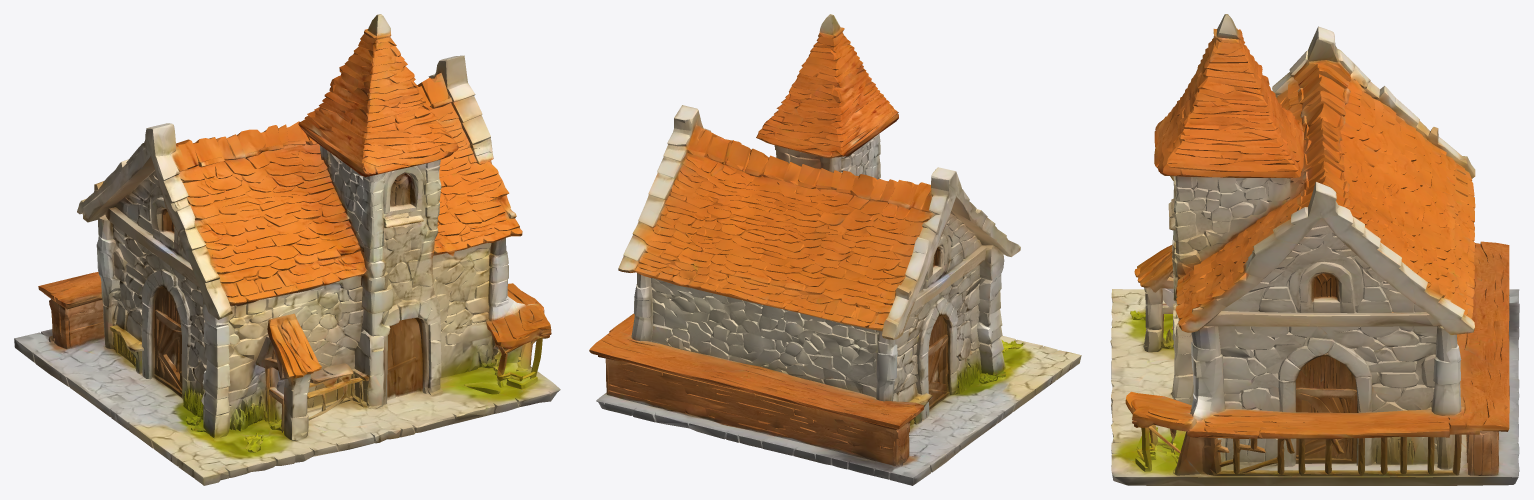
3 views of the same model, side by side, from view 1: azimuth 30°, elevation 25°; view 2: azimuth 150°, elevation 25°; view 3: azimuth 270°, elevation 25° (orthographic). The views are drawn at different scales.
Parts seen in each view (by area): view 1: model; view 2: model; view 3: model.
Boxes of the visible parts, left/top/right/bottom form: model: left=14, top=14, right=560, bottom=485; model: left=589, top=14, right=1081, bottom=485; model: left=1110, top=14, right=1519, bottom=485.
Size of the model in its own units: 1.9 by 1.8 by 1.65.
Materials: 1 (1 with a texture image).
